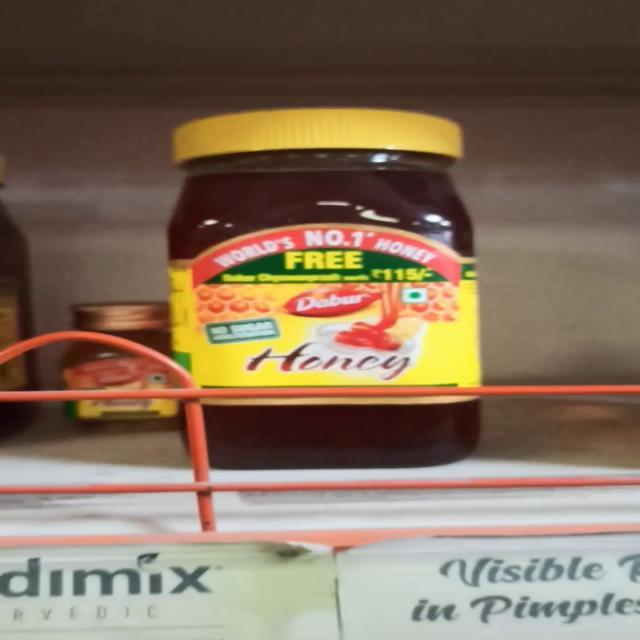Dabur Honey: (145, 103, 500, 467)
